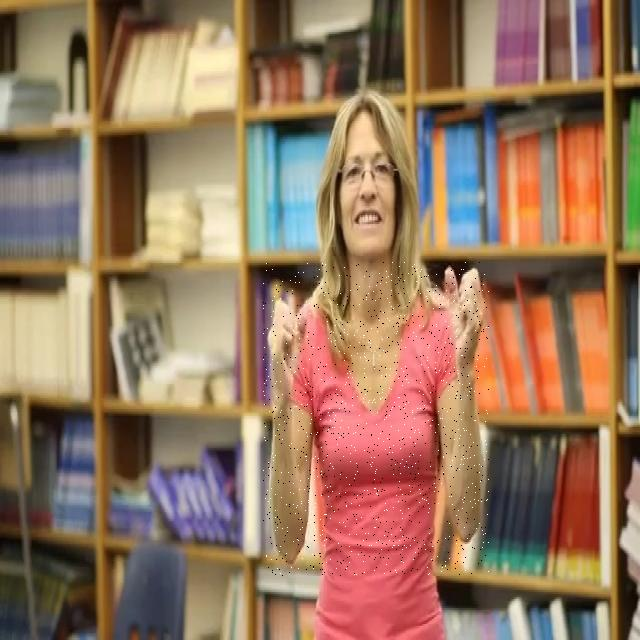cold: (263, 262, 489, 576)
